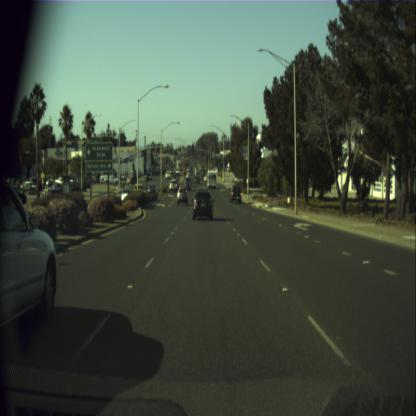Red: (179, 145, 181, 152)
